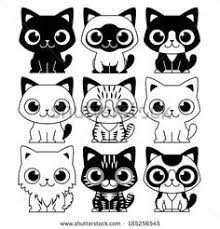cat: (8, 73, 82, 145), (11, 143, 83, 217), (135, 75, 205, 148), (73, 76, 146, 145), (15, 0, 80, 76), (138, 139, 202, 214), (77, 144, 144, 215), (76, 5, 141, 77)
